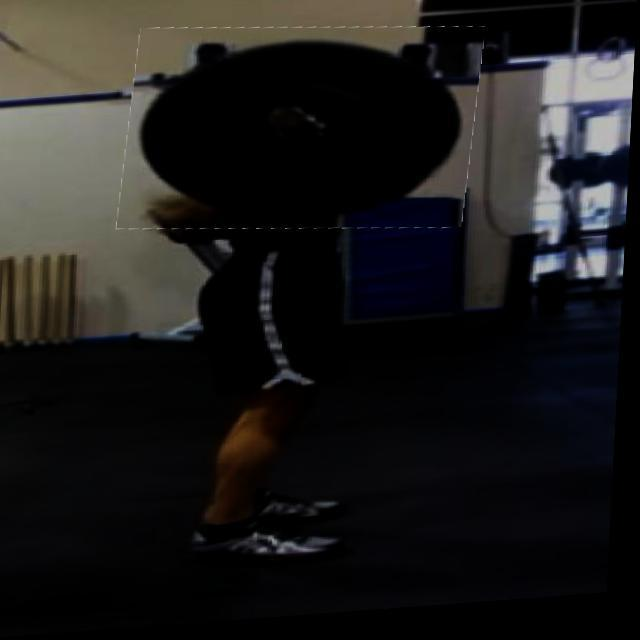barbell: (122, 18, 485, 250)
